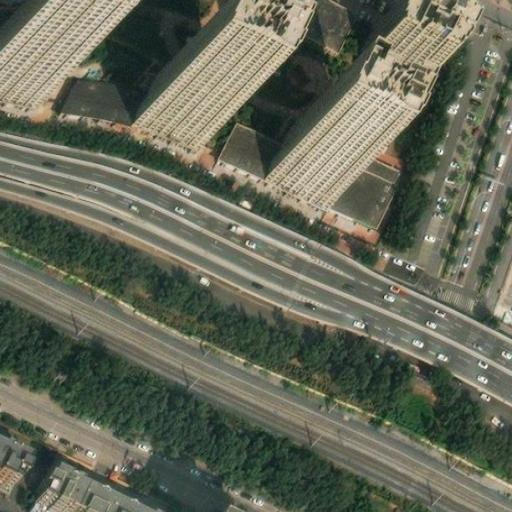building: (217, 113, 315, 195), (269, 128, 354, 203), (135, 71, 219, 146), (364, 12, 442, 81), (0, 30, 64, 105), (55, 71, 153, 119), (36, 472, 131, 512), (333, 165, 393, 222), (304, 0, 355, 43), (351, 145, 402, 184), (0, 446, 22, 483)
